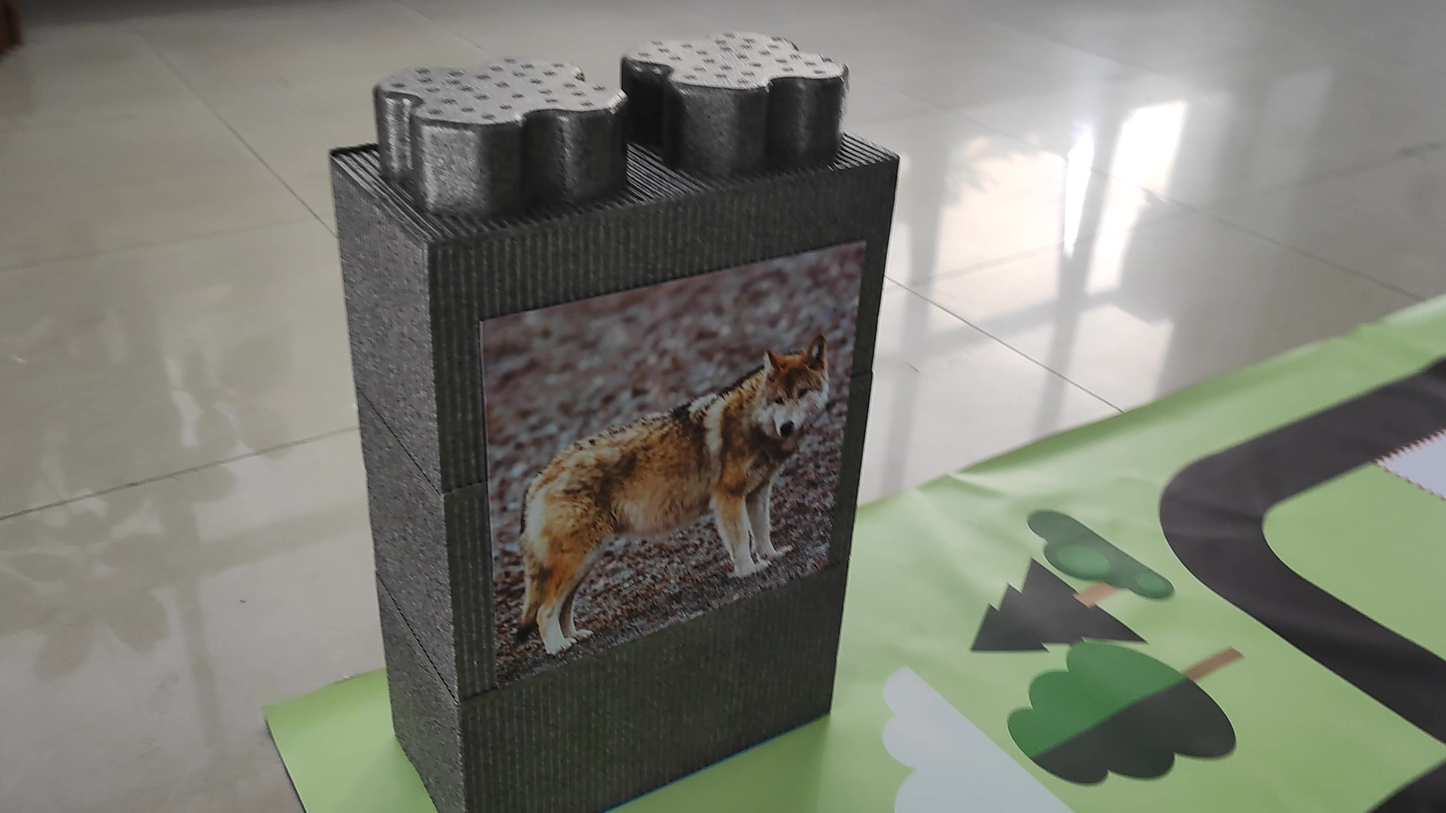wolf: (500, 327, 827, 664)
